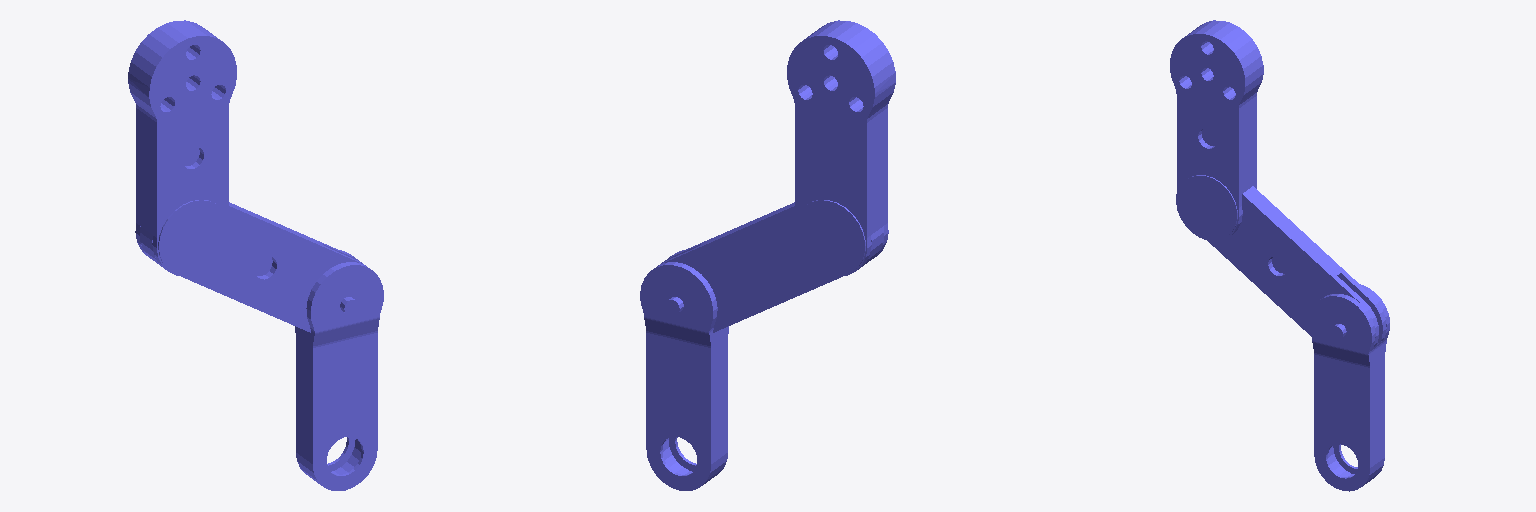
robot.urdf — Tay_Gap_Scara:
<?xml version="1.0" encoding="utf-8"?>
<!-- This URDF was automatically created by SolidWorks to URDF Exporter! Originally created by [author] ([email redacted]) 
     Commit Version: 1.6.0-1-g15f4949  Build Version: 1.6.7594.29634
     For more information, please see http://wiki.ros.org/sw_urdf_exporter -->
<robot
  name="Tay_Gap_Scara">
  <link
    name="base_link">
    <inertial>
      <origin
        xyz="0.0065984 -0.33637 -0.025743"
        rpy="0 0 0" />
      <mass
        value="2.1378" />
      <inertia
        ixx="0.044703"
        ixy="-2.5313E-05"
        ixz="-2.9476E-07"
        iyy="0.0054304"
        iyz="8.9409E-06"
        izz="0.044704" />
    </inertial>
    <visual>
      <origin
        xyz="0 0 0"
        rpy="0 0 0" />
      <geometry>
        <mesh
          filename="package://Tay_Gap_Scara/meshes/base_link.STL" />
      </geometry>
      <material
        name="">
        <color
          rgba="0.79216 0.81961 0.93333 1" />
      </material>
    </visual>
    <collision>
      <origin
        xyz="0 0 0"
        rpy="0 0 0" />
      <geometry>
        <mesh
          filename="package://Tay_Gap_Scara/meshes/base_link.STL" />
      </geometry>
    </collision>
  </link>
  <link
    name="link_1">
    <inertial>
      <origin
        xyz="-2.6021E-18 -0.07186 -0.22314"
        rpy="0 0 0" />
      <mass
        value="0.97977" />
      <inertia
        ixx="0.0074767"
        ixy="-1.3563E-19"
        ixz="-9.5216E-21"
        iyy="0.0012267"
        iyz="-3.5628E-06"
        izz="0.0081461" />
    </inertial>
    <visual>
      <origin
        xyz="0 0 0"
        rpy="0 0 0" />
      <geometry>
        <mesh
          filename="package://Tay_Gap_Scara/meshes/link_1.STL" />
      </geometry>
      <material
        name="">
        <color
          rgba="0.50196 0.50196 1 1" />
      </material>
    </visual>
    <collision>
      <origin
        xyz="0 0 0"
        rpy="0 0 0" />
      <geometry>
        <mesh
          filename="package://Tay_Gap_Scara/meshes/link_1.STL" />
      </geometry>
    </collision>
  </link>
  <joint
    name="joint_1"
    type="prismatic">
    <origin
      xyz="0.0066366 -0.563 -0.025756"
      rpy="1.5708 0 0" />
    <parent
      link="base_link" />
    <child
      link="link_1" />
    <axis
      xyz="0 0 1" />
    <limit
      lower="-0.25"
      upper="0"
      effort="0"
      velocity="0" />
  </joint>
  <link
    name="link_2">
    <inertial>
      <origin
        xyz="5.55111512312578E-17 -0.111115906260767 -0.235096081222913"
        rpy="0 0 0" />
      <mass
        value="0.735688332874957" />
      <inertia
        ixx="0.0070398656492512"
        ixy="5.96311194867027E-19"
        ixz="-4.99220043288003E-20"
        iyy="0.000681755118576011"
        iyz="-9.8140875508998E-07"
        izz="0.0075818839430566" />
    </inertial>
    <visual>
      <origin
        xyz="0 0 0"
        rpy="0 0 0" />
      <geometry>
        <mesh
          filename="package://Tay_Gap_Scara/meshes/link_2.STL" />
      </geometry>
      <material
        name="">
        <color
          rgba="0.501960784313725 0.501960784313725 1 1" />
      </material>
    </visual>
    <collision>
      <origin
        xyz="0 0 0"
        rpy="0 0 0" />
      <geometry>
        <mesh
          filename="package://Tay_Gap_Scara/meshes/link_2.STL" />
      </geometry>
    </collision>
  </link>
  <joint
    name="joint_2"
    type="continuous">
    <origin
      xyz="0 -0.20072 0.012"
      rpy="0 0 0.99553" />
    <parent
      link="link_1" />
    <child
      link="link_2" />
    <axis
      xyz="0 0 1" />
  </joint>
  <link
    name="link_3">
    <inertial>
      <origin
        xyz="0 -0.085863 -0.235"
        rpy="0 0 0" />
      <mass
        value="0.46059" />
      <inertia
        ixx="0.0033026"
        ixy="5.9539E-19"
        ixz="-1.8324E-20"
        iyy="0.00052367"
        iyz="-1.8265E-19"
        izz="0.003576" />
    </inertial>
    <visual>
      <origin
        xyz="0 0 0"
        rpy="0 0 0" />
      <geometry>
        <mesh
          filename="package://Tay_Gap_Scara/meshes/link_3.STL" />
      </geometry>
      <material
        name="">
        <color
          rgba="0.50196 0.50196 1 1" />
      </material>
    </visual>
    <collision>
      <origin
        xyz="0 0 0"
        rpy="0 0 0" />
      <geometry>
        <mesh
          filename="package://Tay_Gap_Scara/meshes/link_3.STL" />
      </geometry>
    </collision>
  </link>
  <joint
    name="joint_3"
    type="continuous">
    <origin
      xyz="0 -0.25 0"
      rpy="0 0 -0.99553" />
    <parent
      link="link_2" />
    <child
      link="link_3" />
    <axis
      xyz="0 0 1" />
  </joint>
</robot>

--- What the picture shows (computed from the rendered views, not written in the file) ---
The picture shows the robot from 3 angles, left to right: view 1: azimuth 30°, elevation 25°; view 2: azimuth 150°, elevation 25°; view 3: azimuth 330°, elevation 25°; orthographic projection.
Robot: Tay_Gap_Scara — 4 links, 3 joints (2 continuous, 1 prismatic); root link base_link; default pose: all joints at 0.
Visible links, largest first — view 1: link_1, link_3, link_2; view 2: link_1, link_3, link_2; view 3: link_1, link_3, link_2.
Link boxes in pixels (x1,y1,x2,y2): link_1: [128, 20, 236, 276]; link_3: [295, 250, 383, 490]; link_2: [140, 202, 365, 332]; link_1: [787, 20, 895, 276]; link_3: [640, 250, 728, 490]; link_2: [658, 202, 883, 332]; link_1: [1170, 20, 1263, 241]; link_3: [1309, 284, 1389, 491]; link_2: [1208, 186, 1386, 346].
Bounding box of the posed robot: 0.3197 × 0.07 × 0.6406 m (x, y, z).
Meshes: 4 distinct files referenced, 3 mesh visuals loaded (3 binary STL); not drawn: 1 (reference not matched to a file when rendering).
